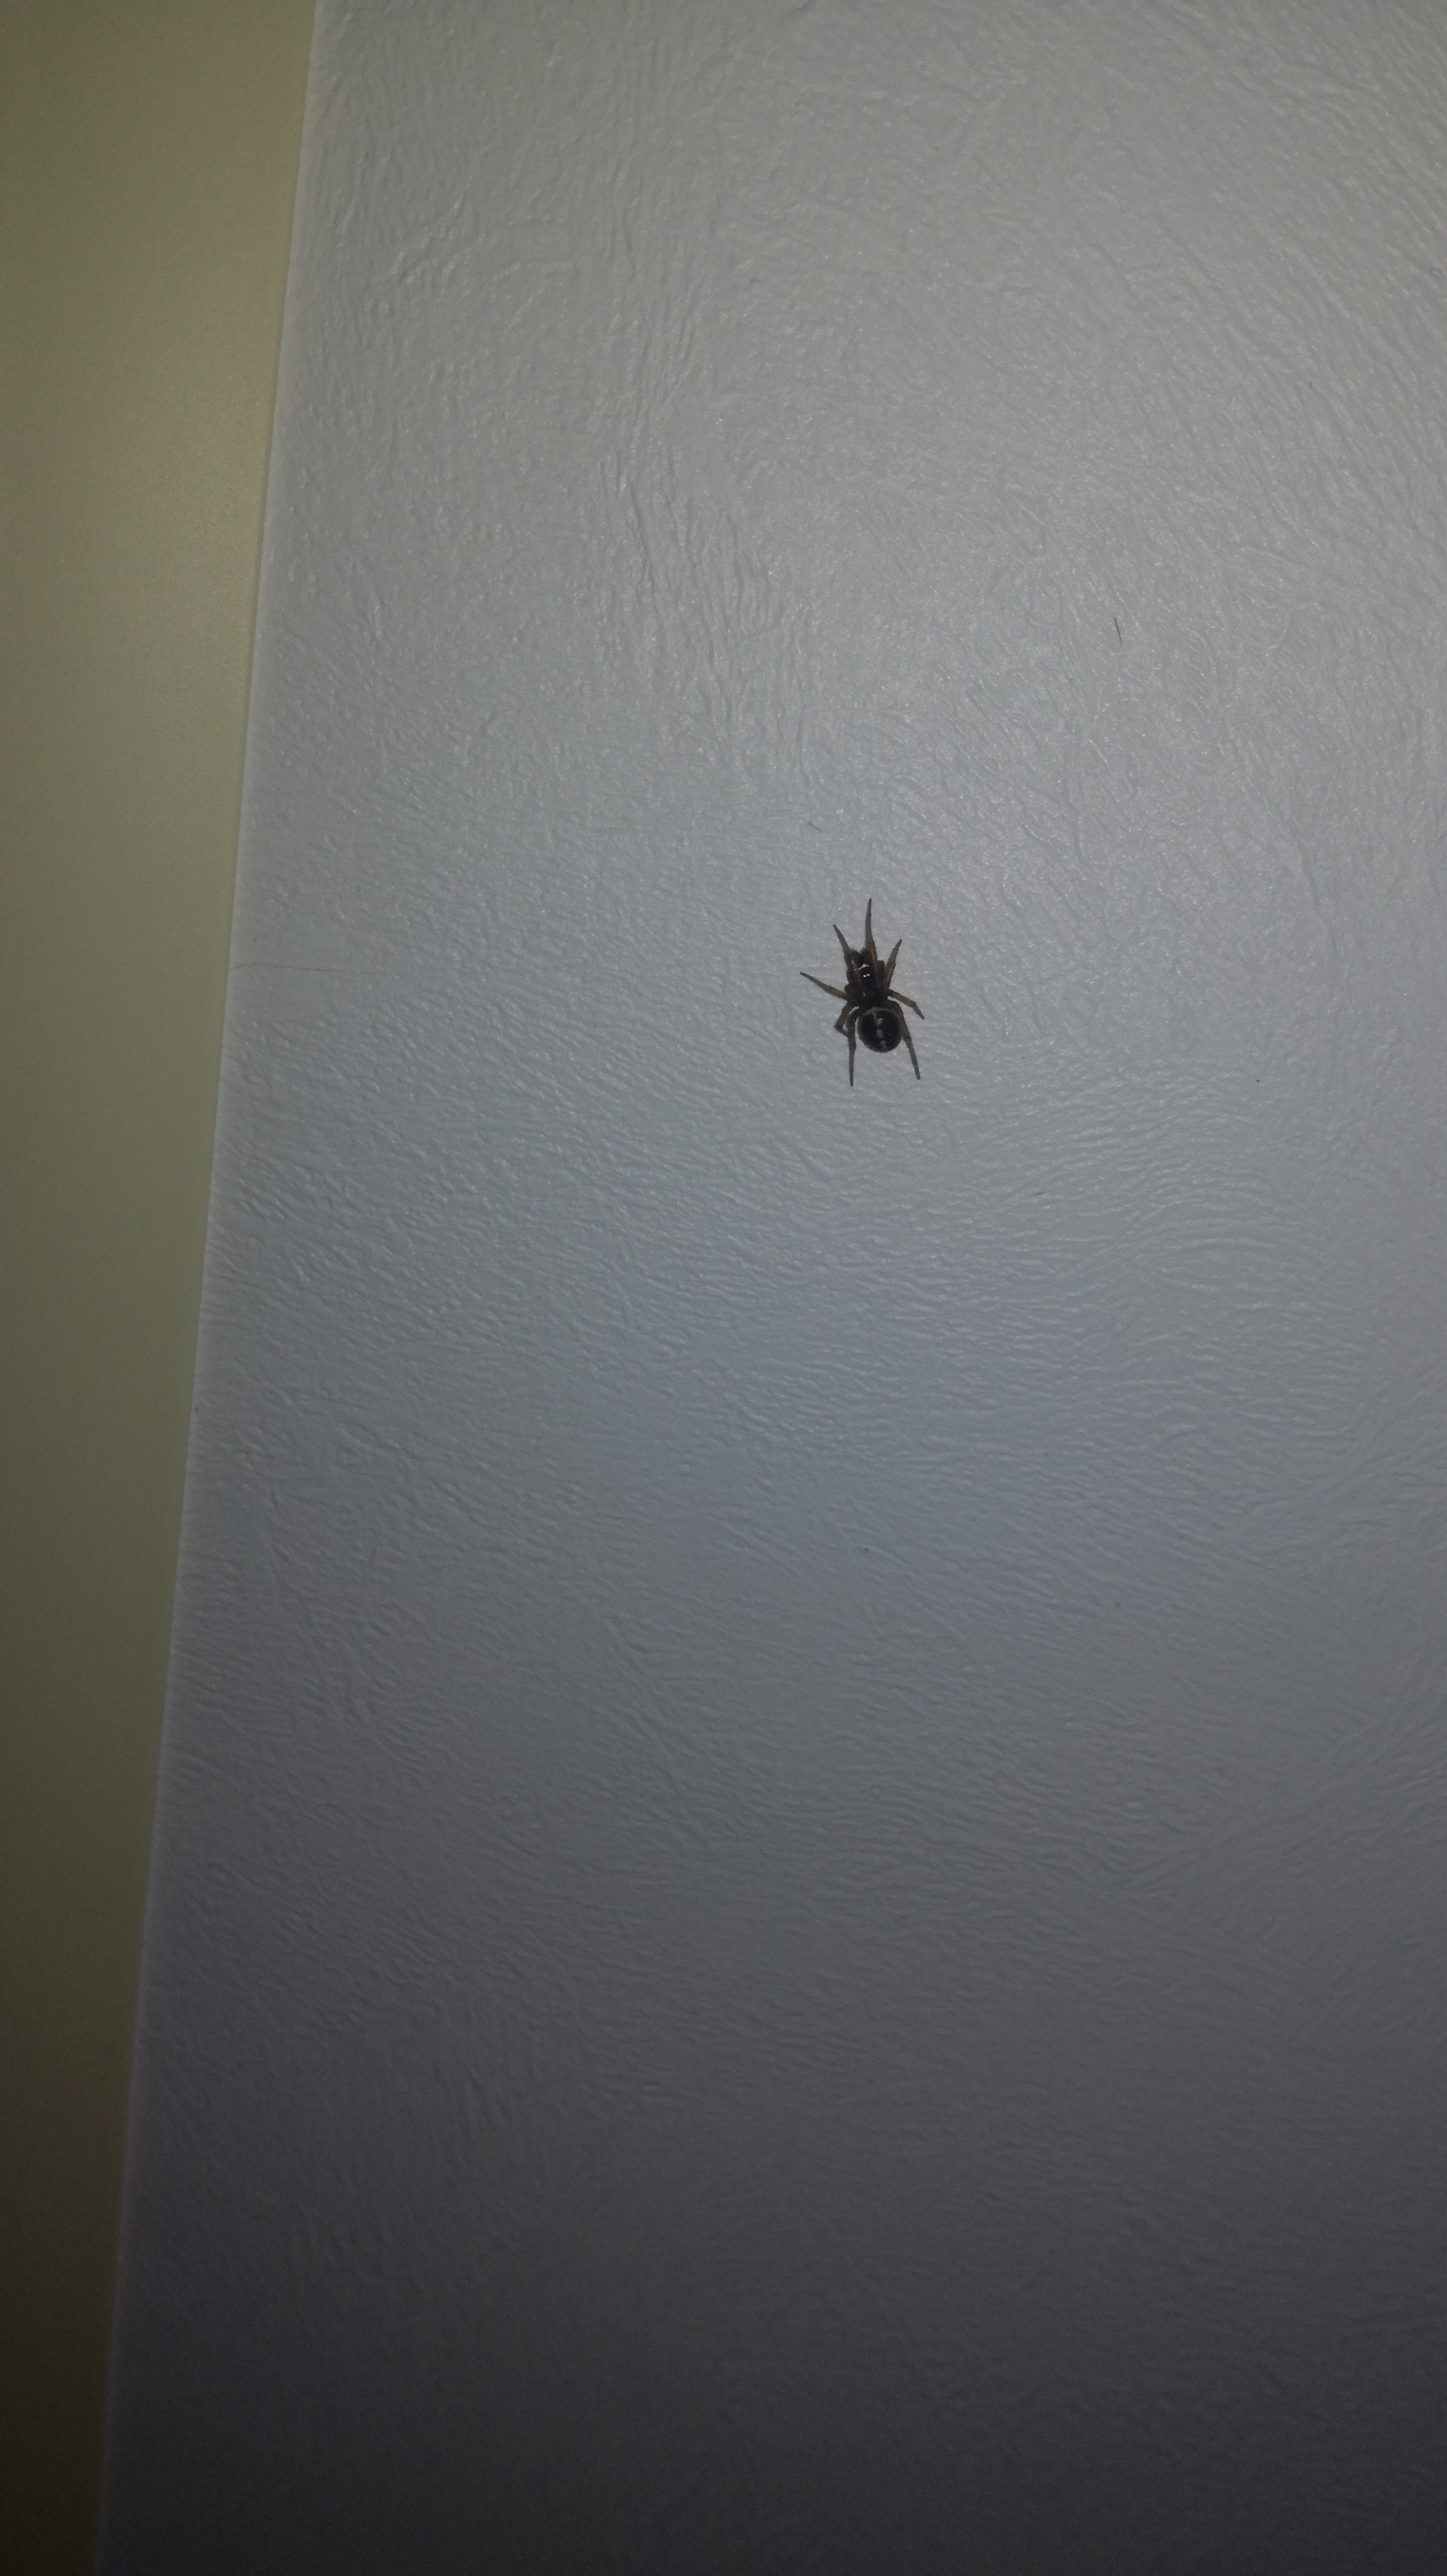spider: (761, 867, 966, 1132)
